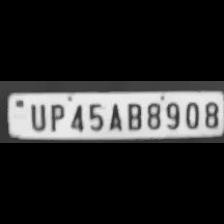0: (182, 100, 200, 128)
4: (67, 100, 85, 132)
5: (84, 99, 104, 130)
8: (201, 99, 221, 129), (143, 99, 161, 130)
9: (164, 100, 181, 130)
A: (105, 99, 123, 130)
B: (123, 99, 143, 130)
P: (46, 100, 64, 132)
U: (25, 101, 47, 131)
